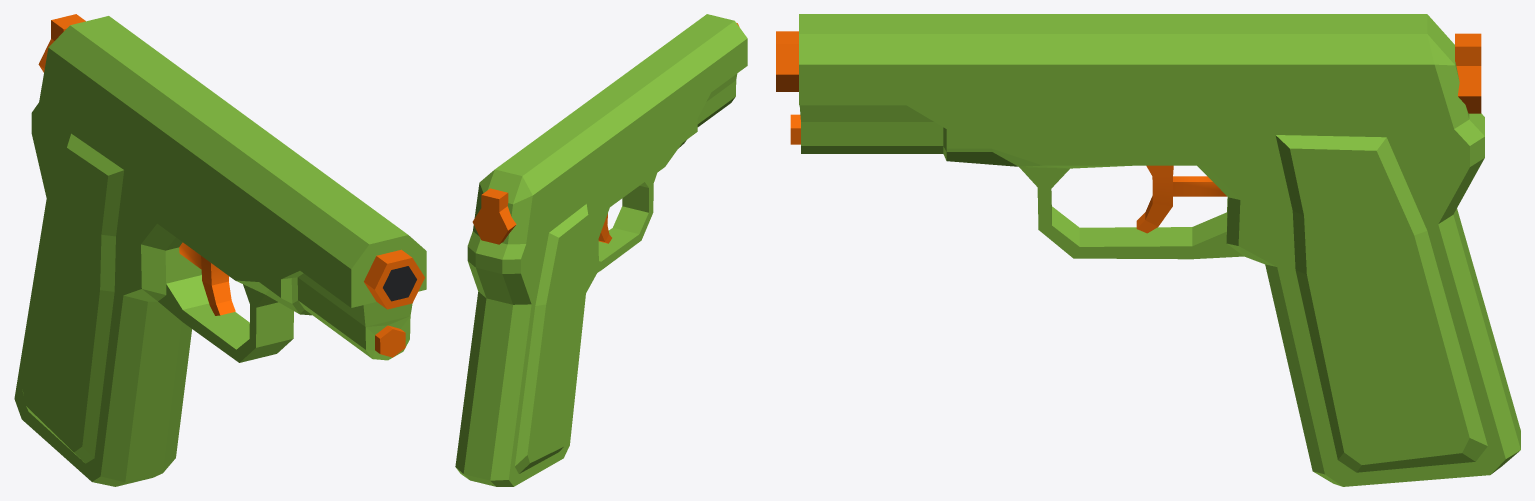
Rendered from SM_Wep_WaterPistol_01.fbx.
3 renders of one model, left to right at view 1: azimuth 30°, elevation 25°; view 2: azimuth 150°, elevation 25°; view 3: azimuth 270°, elevation 25°, orthographic. The views are drawn at different scales.
Visible parts, largest first — view 1: SM_Wep_WaterPistol_01, WaterPistol_01_Trigger; view 2: SM_Wep_WaterPistol_01; view 3: SM_Wep_WaterPistol_01, WaterPistol_01_Trigger.
Boxes of the visible parts, box(x1,y1,x2,y2) form: SM_Wep_WaterPistol_01: box(14, 14, 426, 486); WaterPistol_01_Trigger: box(179, 242, 235, 315); SM_Wep_WaterPistol_01: box(455, 14, 747, 486); SM_Wep_WaterPistol_01: box(776, 14, 1520, 486); WaterPistol_01_Trigger: box(1136, 165, 1226, 233).
Size of the model in its own units: 3.98 by 17.42 by 26.14.
1 material, 1 textured.
